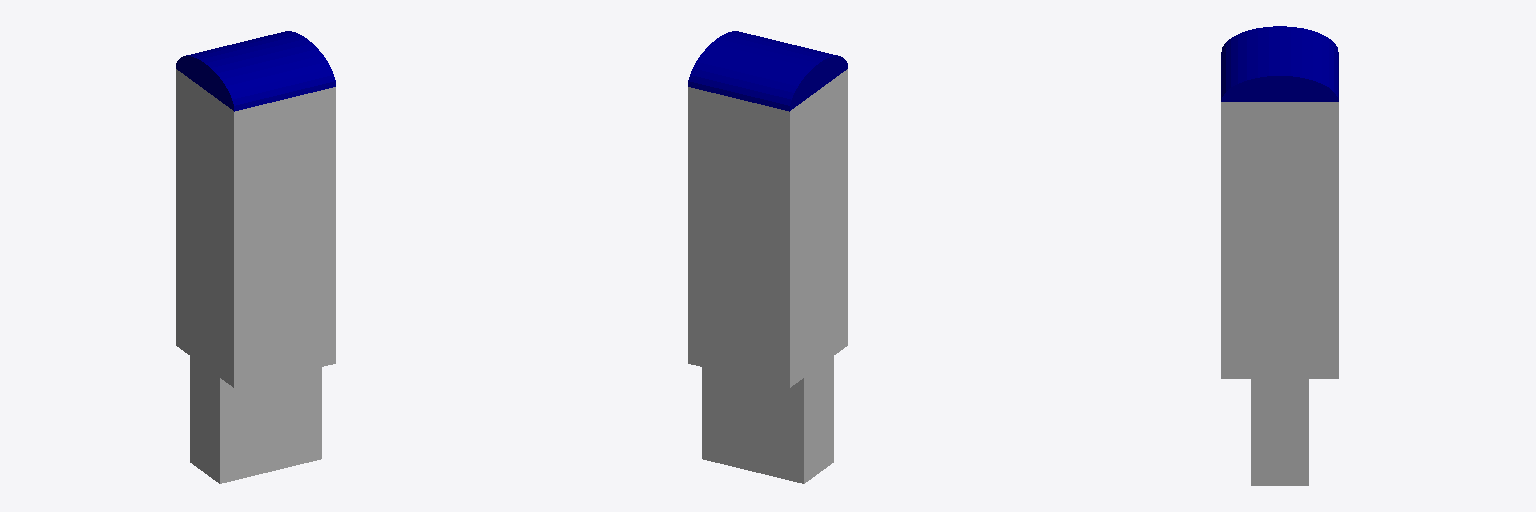
Rendered from body_r_distal_pinvround.obj.
3 renders of one model, left to right at view 1: azimuth 30°, elevation 25°; view 2: azimuth 150°, elevation 25°; view 3: azimuth 270°, elevation 25°, orthographic.
Visible parts, largest first — view 1: body_r_distal_pinvround_Cube.007; view 2: body_r_distal_pinvround_Cube.007; view 3: body_r_distal_pinvround_Cube.007.
Boxes of the visible parts, <box> form: body_r_distal_pinvround_Cube.007: <box>176,31,335,483</box>; body_r_distal_pinvround_Cube.007: <box>688,31,847,483</box>; body_r_distal_pinvround_Cube.007: <box>1221,26,1338,485</box>.
Size of the model in its own units: 0.02 by 0.077 by 0.02.